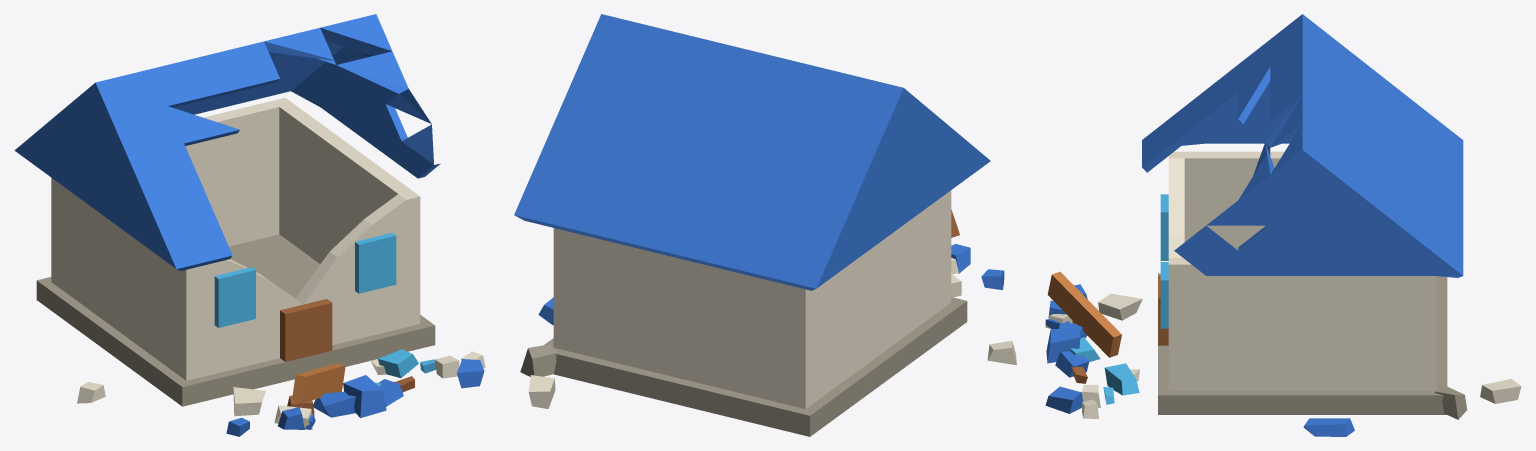
The model's file is house_t1_v4_dmg1.glb.
The picture shows the model from 3 angles, left to right: view 1: azimuth 30°, elevation 25°; view 2: azimuth 150°, elevation 25°; view 3: azimuth 270°, elevation 25°; orthographic projection. The views are drawn at different scales.
Visible parts, largest first — view 1: house_t1_v4_dmg1; view 2: house_t1_v4_dmg1; view 3: house_t1_v4_dmg1.
Part boxes in pixels (x1,y1,x2,y2): house_t1_v4_dmg1: (14,14,485,436); house_t1_v4_dmg1: (514,14,1016,436); house_t1_v4_dmg1: (1045,14,1521,436).
Size of the model in its own units: 0.8098 by 0.56 by 0.8888.
Materials: 1 (1 with a texture image).
